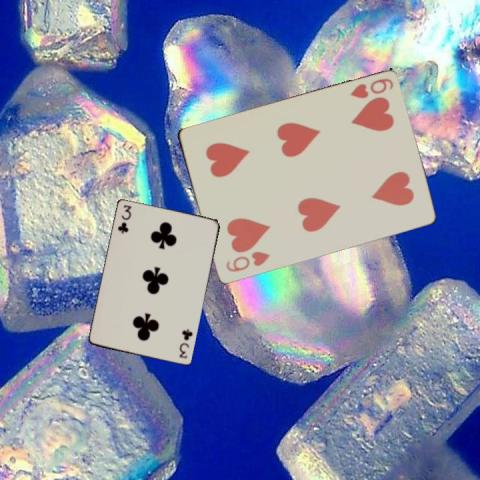3c: (176, 326, 194, 360), (115, 202, 133, 235)
6h: (346, 75, 394, 101), (223, 249, 271, 274)
